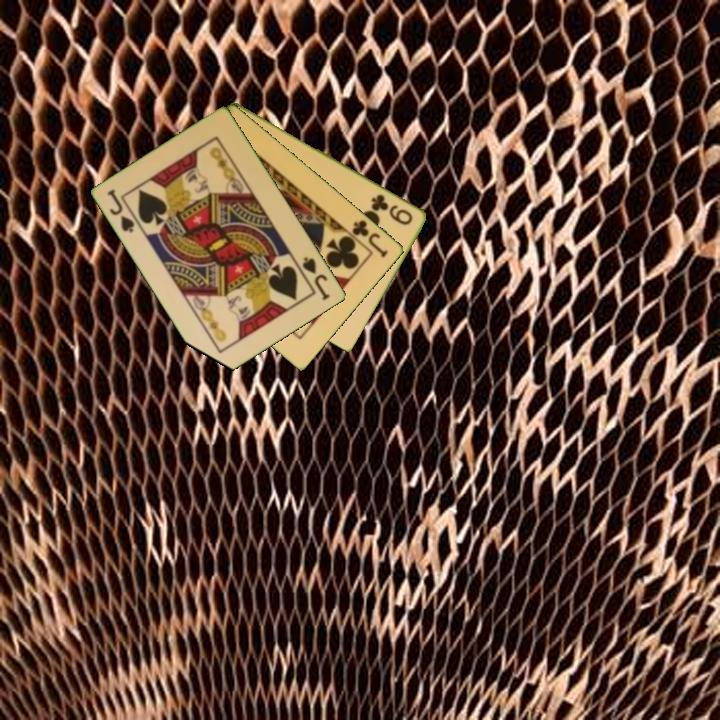9c: (368, 190, 416, 228)
Jc: (349, 216, 391, 260)
Js: (104, 185, 138, 236), (299, 253, 333, 303)
